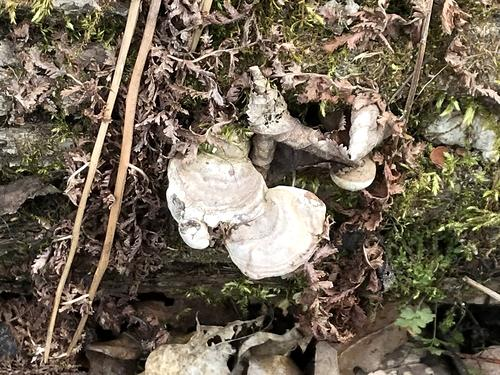Ganoderma - Fruit Body: (164, 134, 325, 280), (329, 151, 379, 194)
